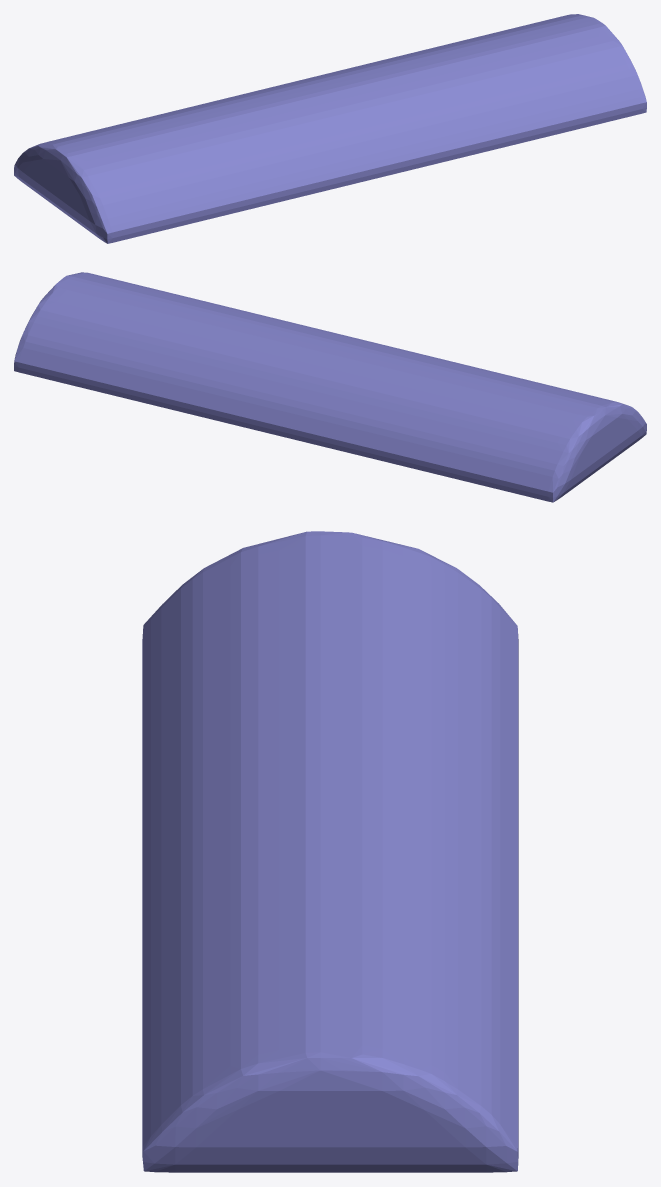
The model's file is left-tarsus-0_part_12.obj.
3 renders of one model, top to bottom at view 1: azimuth 30°, elevation 25°; view 2: azimuth 150°, elevation 25°; view 3: azimuth 270°, elevation 25°, orthographic. The views are drawn at different scales.
Size of the model in its own units: 0.1145 by 0.0116 by 0.034.
